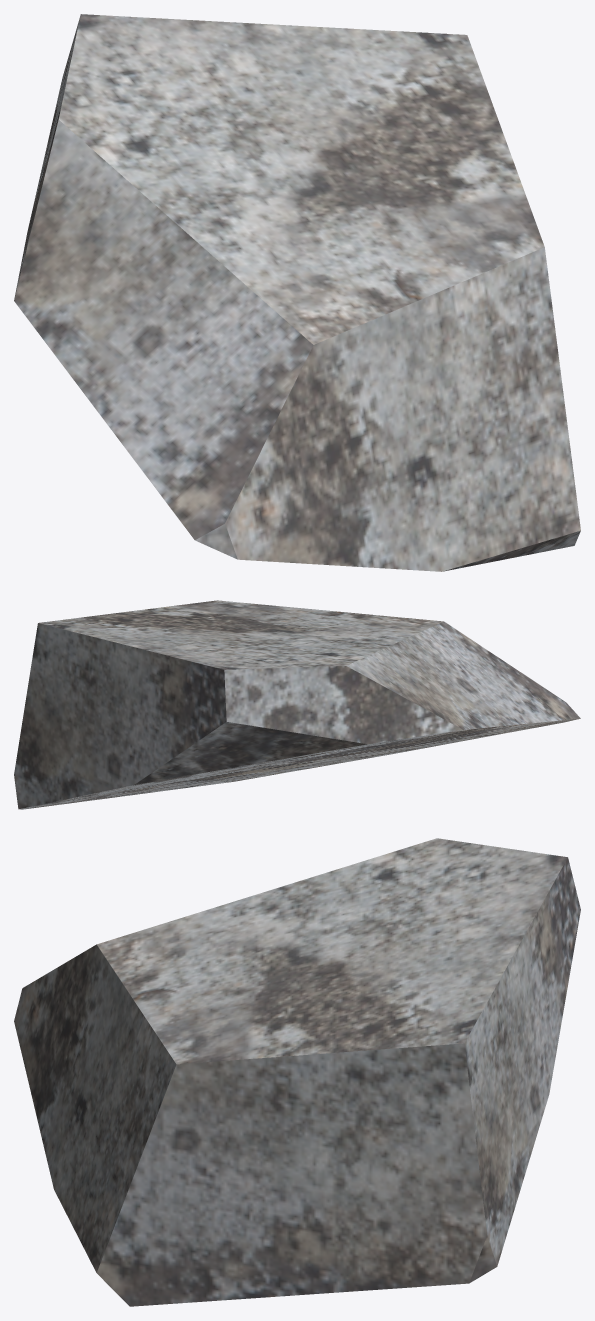
The model's file is Asteroid_Large_001_02_007_03_016.fbx.
3 views of the same model, one above another, from view 1: azimuth 30°, elevation 25°; view 2: azimuth 150°, elevation 25°; view 3: azimuth 270°, elevation 25° (orthographic). The views are drawn at different scales.
Parts seen in each view (by area): view 1: Asteroid_Large_001_02_007_03_016; view 2: Asteroid_Large_001_02_007_03_016; view 3: Asteroid_Large_001_02_007_03_016.
Boxes of the visible parts, bbox=[...] form: Asteroid_Large_001_02_007_03_016: bbox=[14, 14, 580, 571]; Asteroid_Large_001_02_007_03_016: bbox=[14, 600, 580, 809]; Asteroid_Large_001_02_007_03_016: bbox=[14, 838, 580, 1306].
Size of the model in its own units: 8.66 by 6.07 by 8.94.
